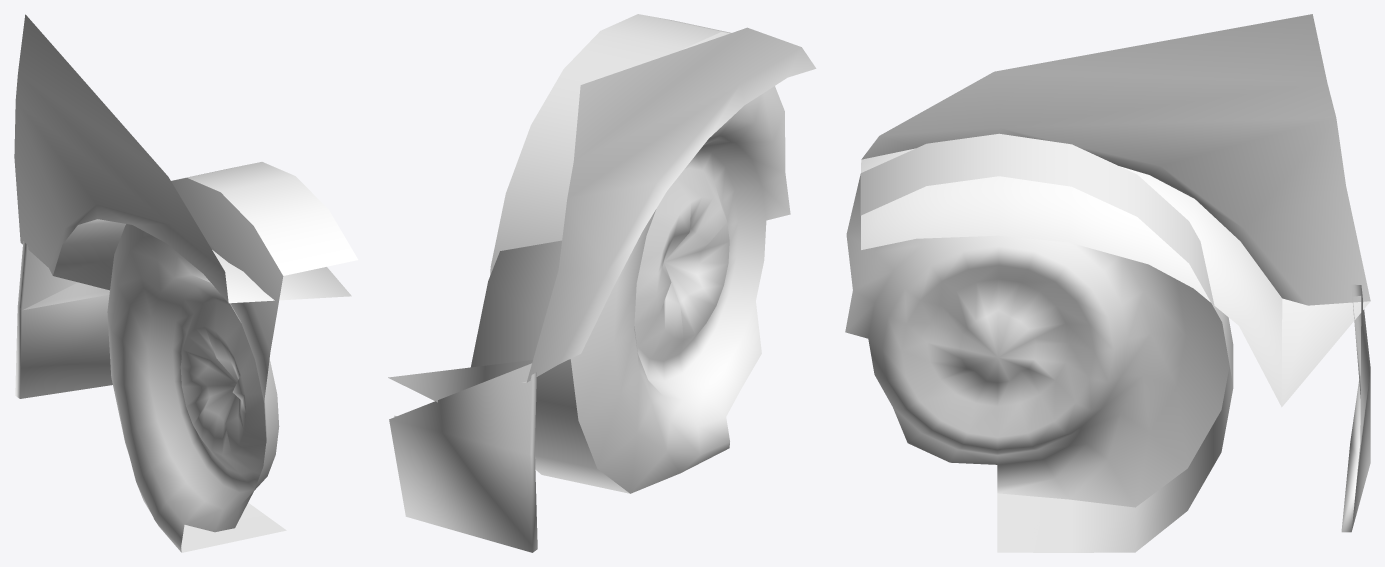
3 renders of one model, left to right at view 1: azimuth 30°, elevation 25°; view 2: azimuth 150°, elevation 25°; view 3: azimuth 270°, elevation 25°, orthographic. The views are drawn at different scales.
Size of the model in its own units: 0.2705 by 0.7286 by 0.7273.
Materials: 1 (1 with a texture image).
